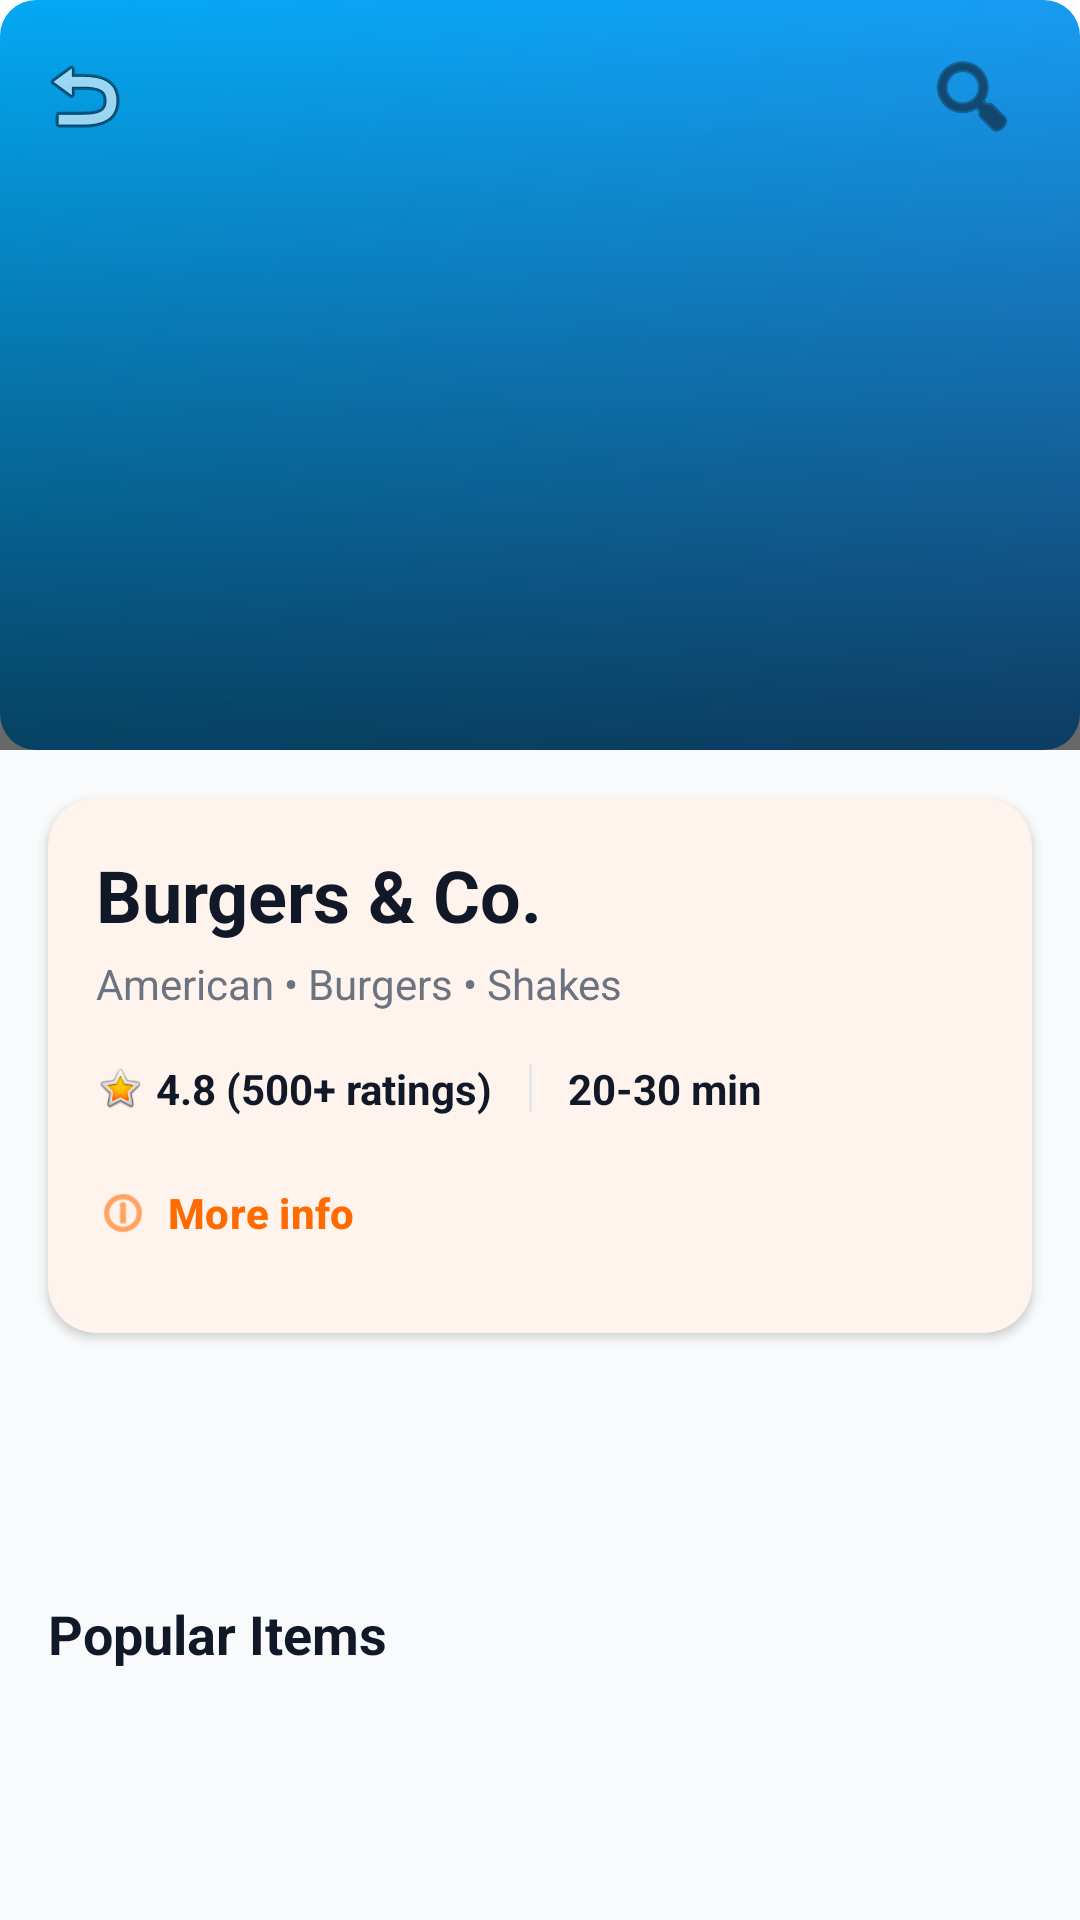

Screen size 1080x1920. Icon name, then its box in pixels as {"left": x1, "top": y1, "right": x2, "bottom": y2}:
search: {"left": 912, "top": 36, "right": 1032, "bottom": 132}
star on: {"left": 100, "top": 1069, "right": 140, "bottom": 1108}
